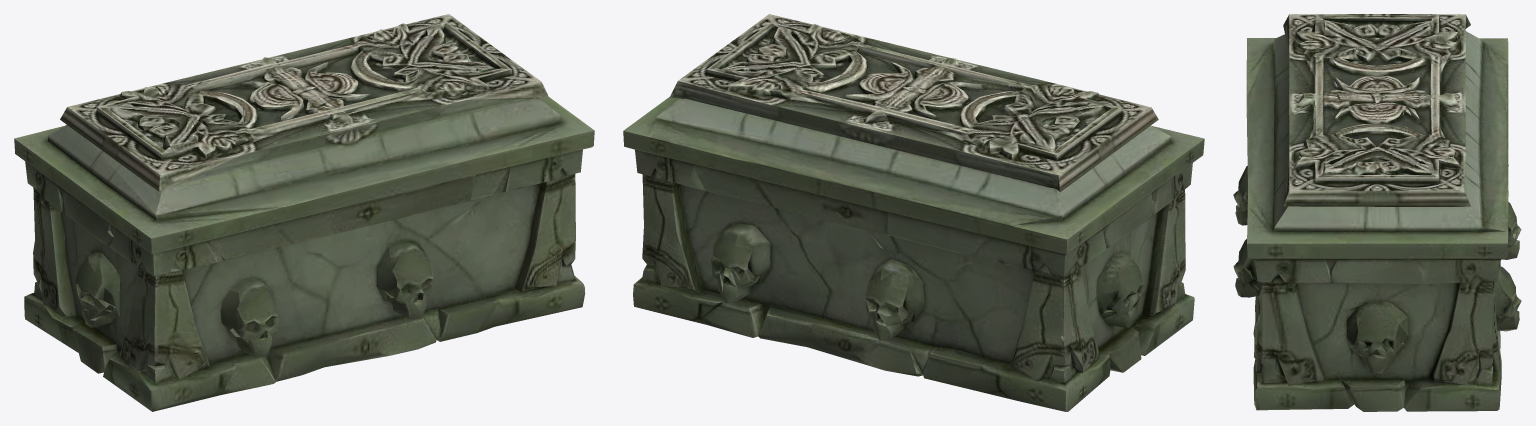
File: prop_sarcophagus.glb
3 views of the same model, side by side, from view 1: azimuth 30°, elevation 25°; view 2: azimuth 150°, elevation 25°; view 3: azimuth 270°, elevation 25° (orthographic). The views are drawn at different scales.
Size of the model in its own units: 1.9 by 0.9208 by 1.11.
Materials: 1 (1 with a texture image).
